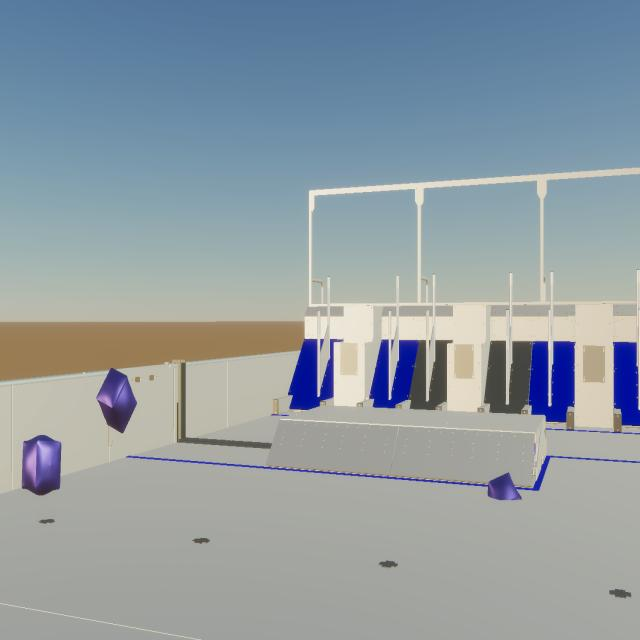frc_cube: (96, 368, 137, 433), (22, 435, 61, 495), (488, 472, 522, 500)
